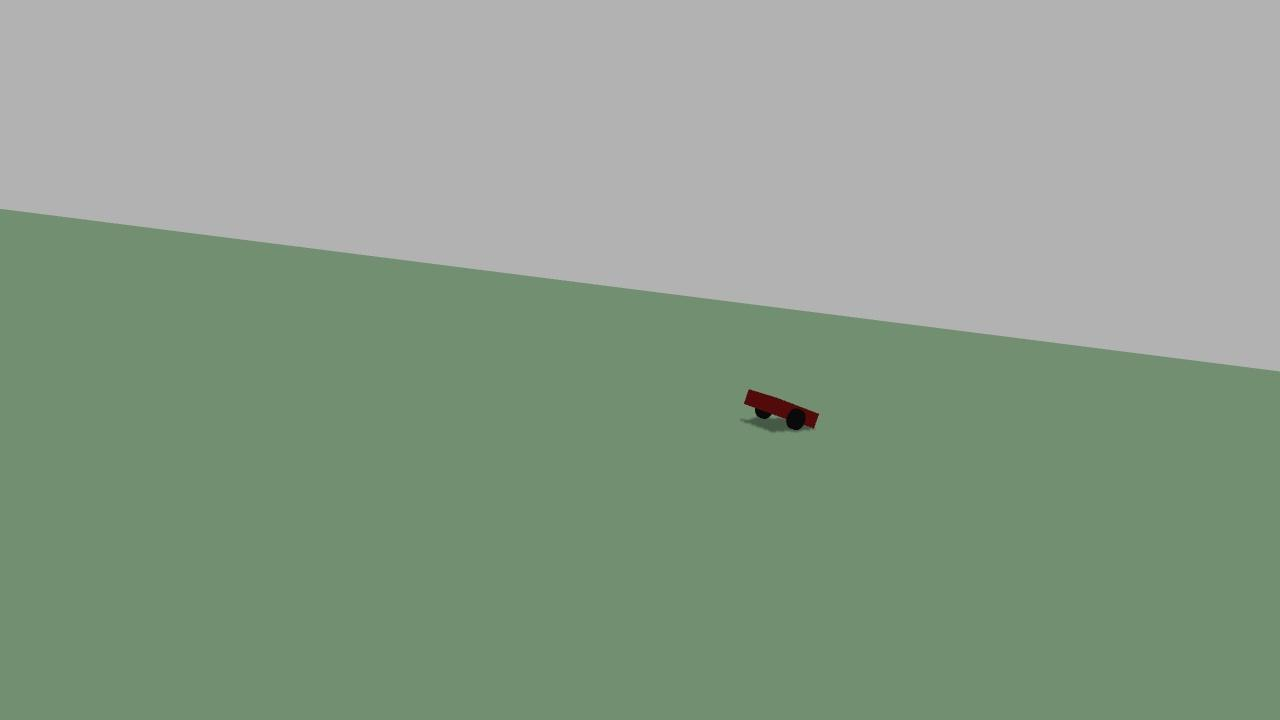ground_vehicle: (732, 368, 829, 447)
